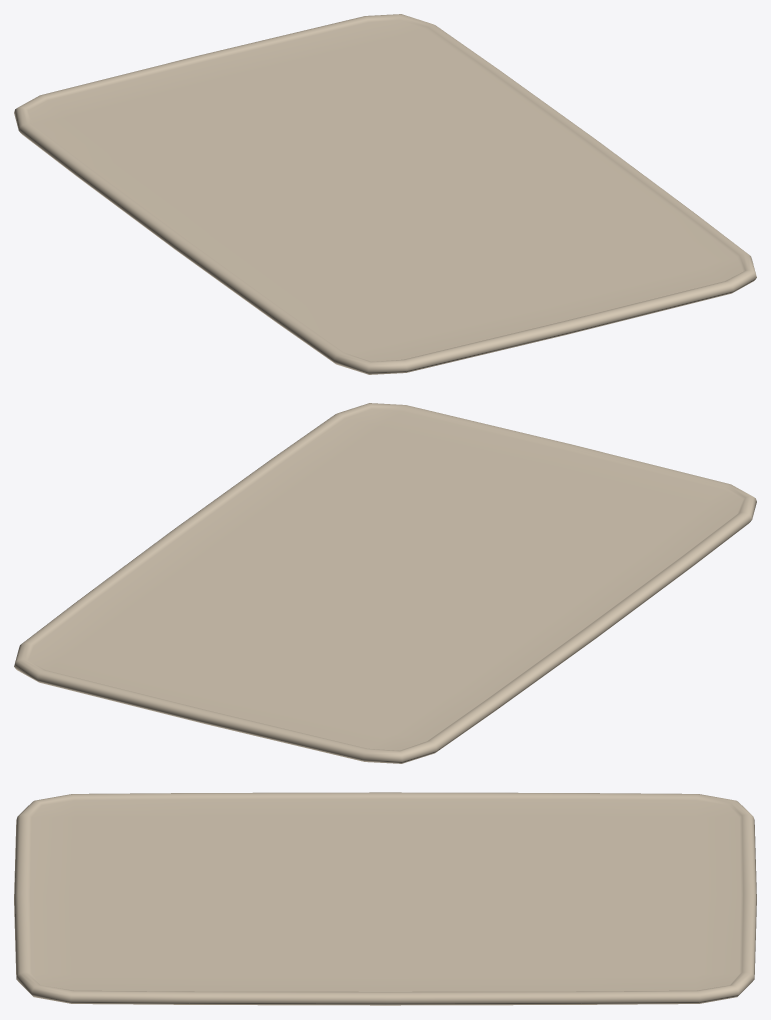
Rendered from rugs_31_2_L.fbx.
3 renders of one model, top to bottom at view 1: azimuth 30°, elevation 25°; view 2: azimuth 150°, elevation 25°; view 3: azimuth 270°, elevation 25°, orthographic.
Parts seen in each view (by area): view 1: rugs_31_2_L; view 2: rugs_31_2_L; view 3: rugs_31_2_L.
Part boxes in pixels (bbox=[...]): rugs_31_2_L: bbox=[14, 14, 756, 374]; rugs_31_2_L: bbox=[14, 403, 756, 763]; rugs_31_2_L: bbox=[14, 792, 756, 1005].
Size of the model in its own units: 14.56 by 0.345 by 22.1.
